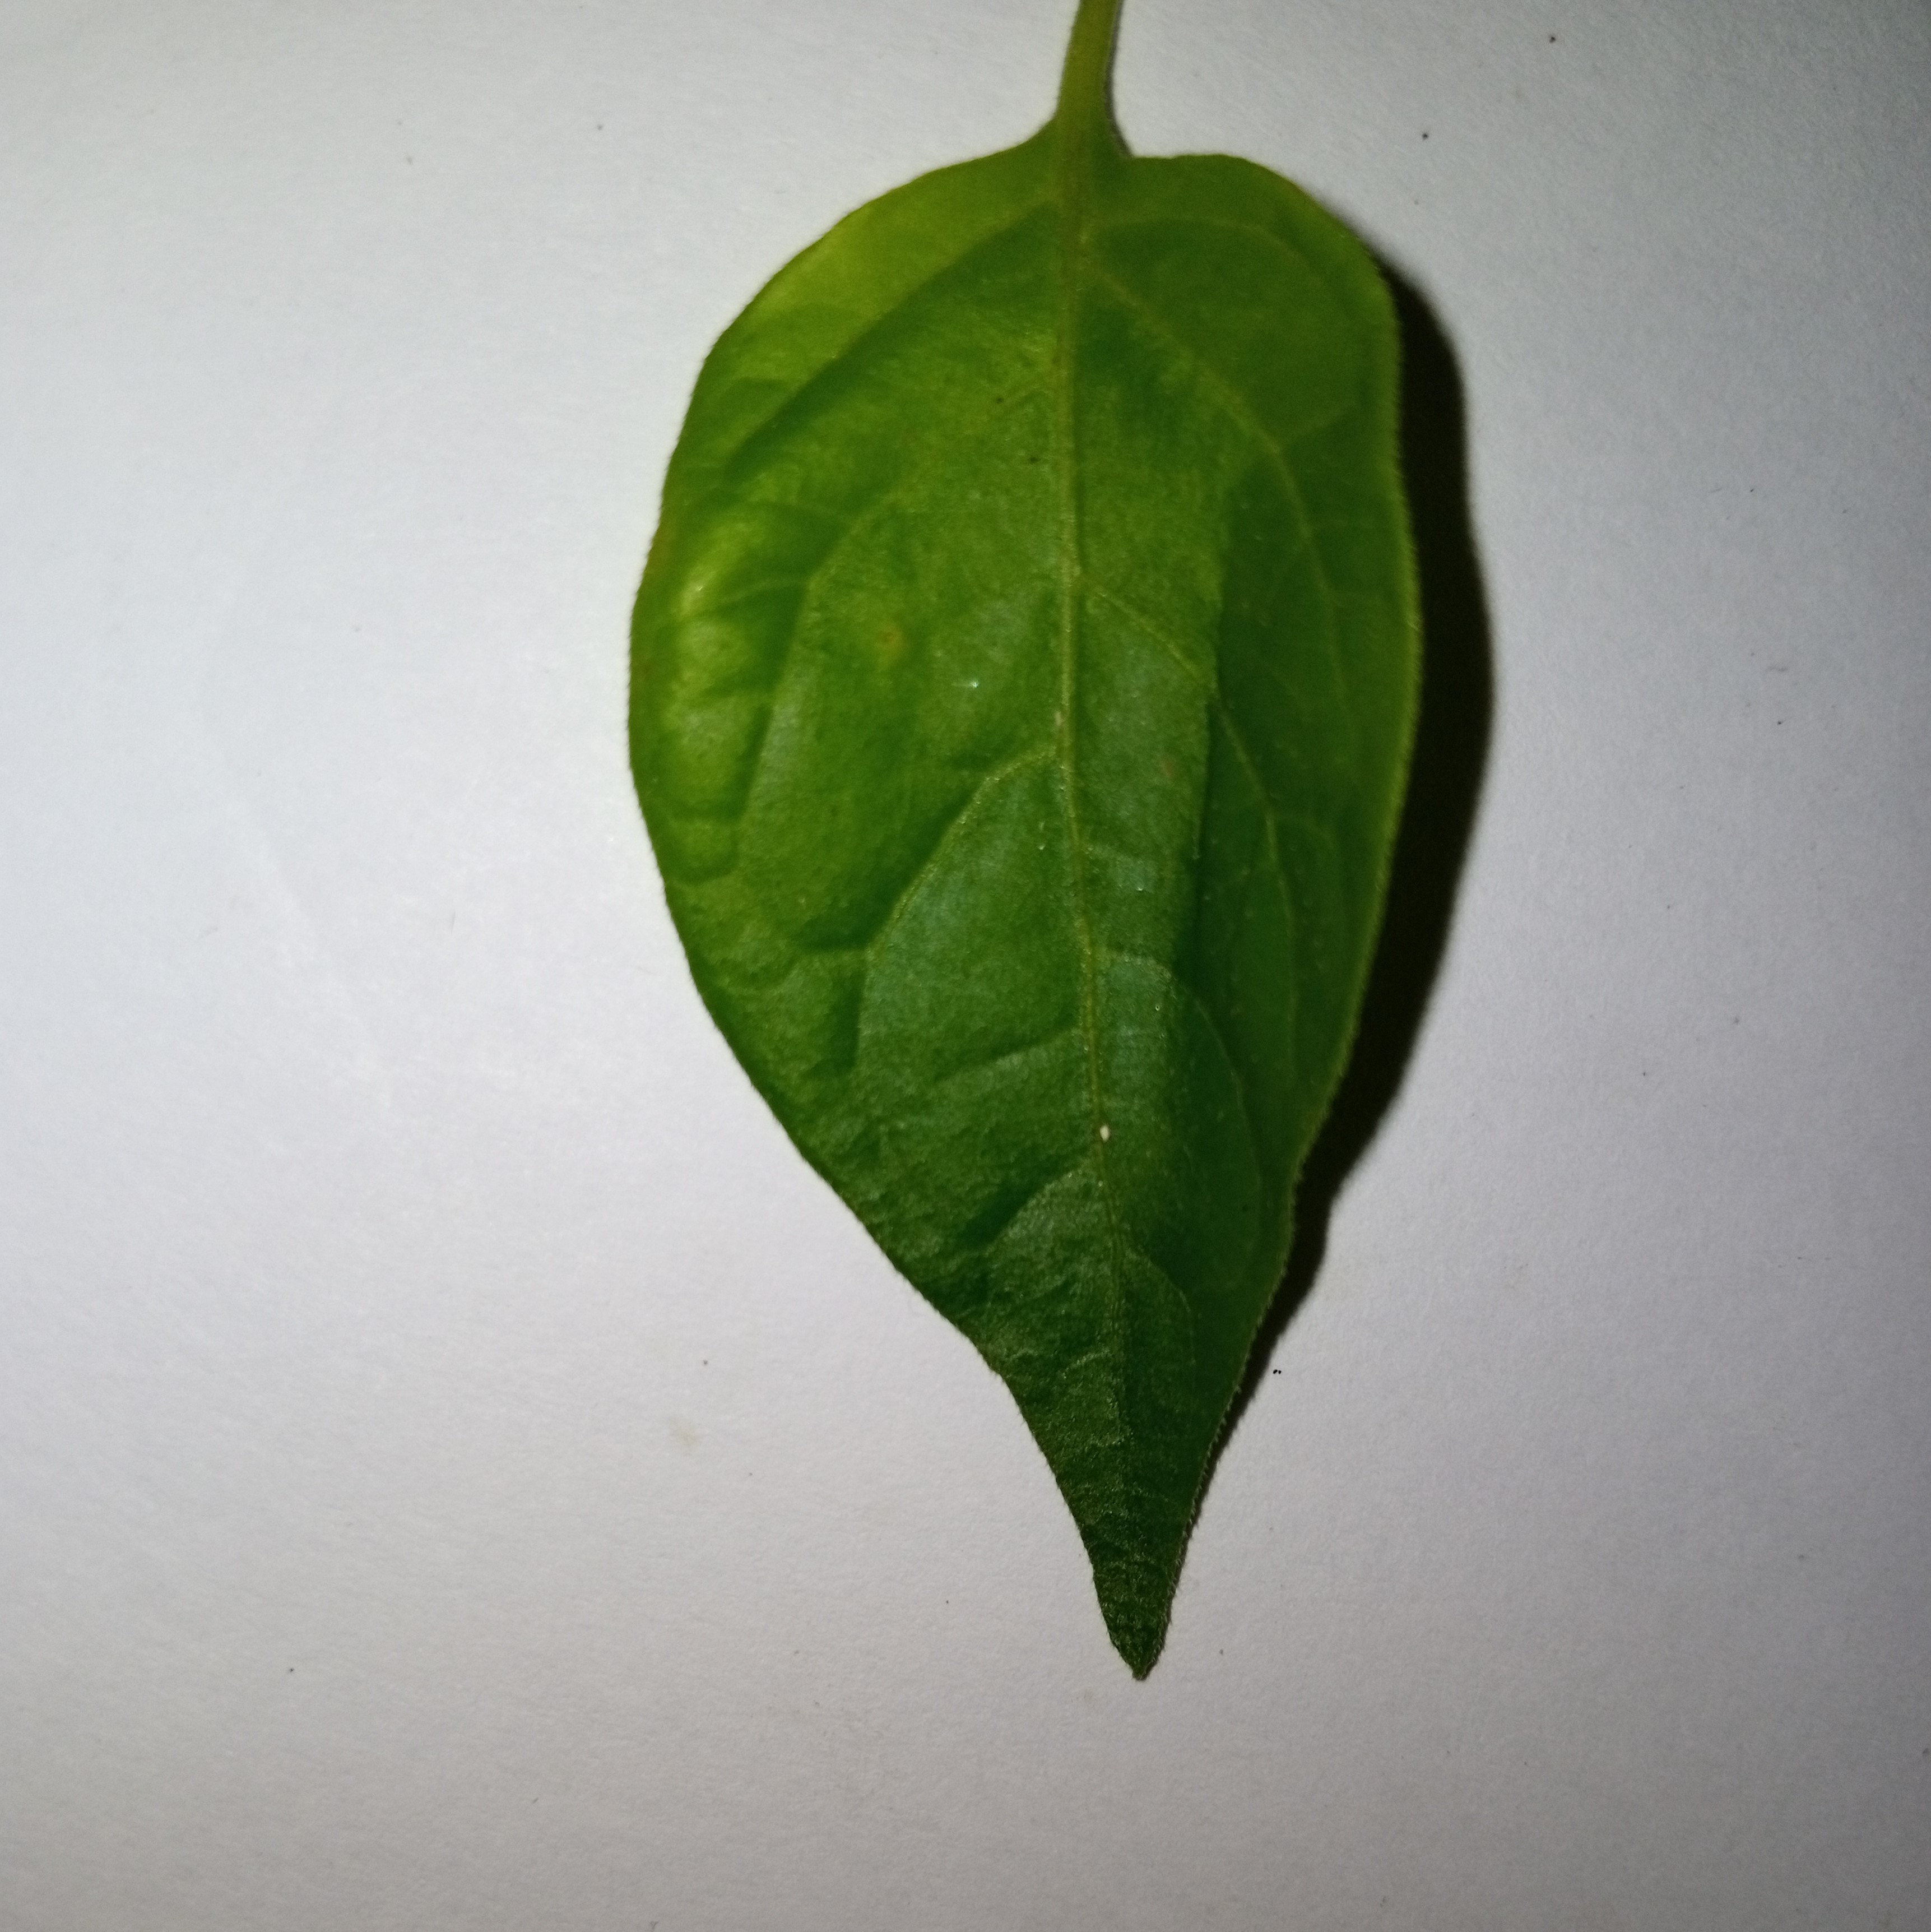Leaf: (463, 83, 1650, 1815)
